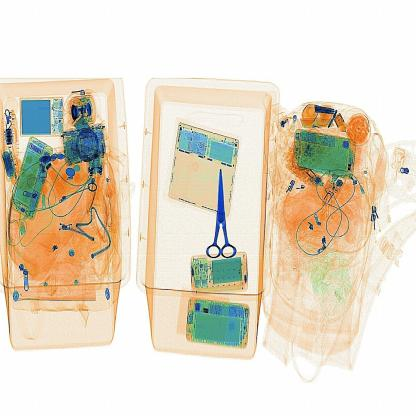gun: (201, 158, 245, 264)
